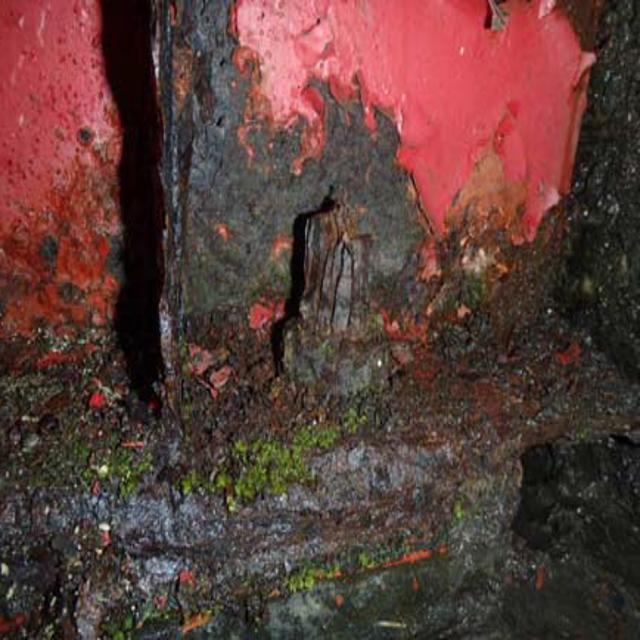corrosion: (30, 33, 624, 434)
